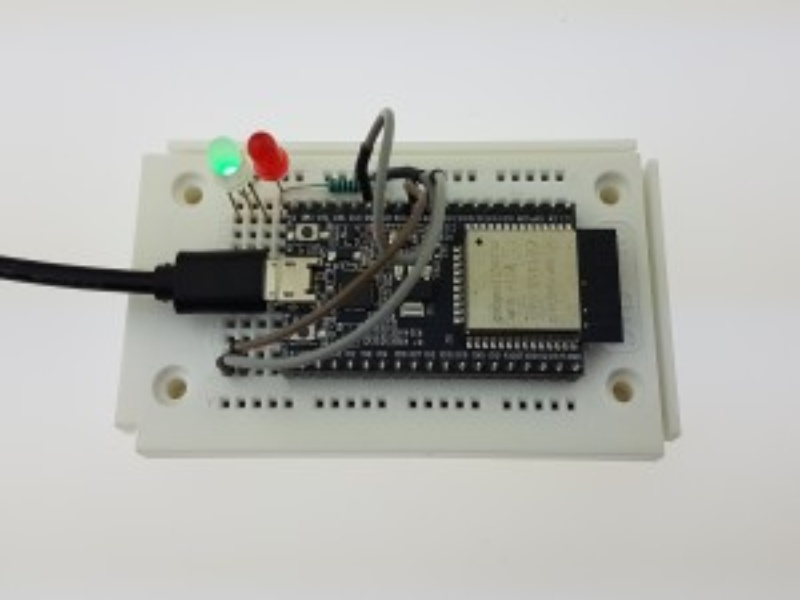esp32: (246, 139, 643, 423)
